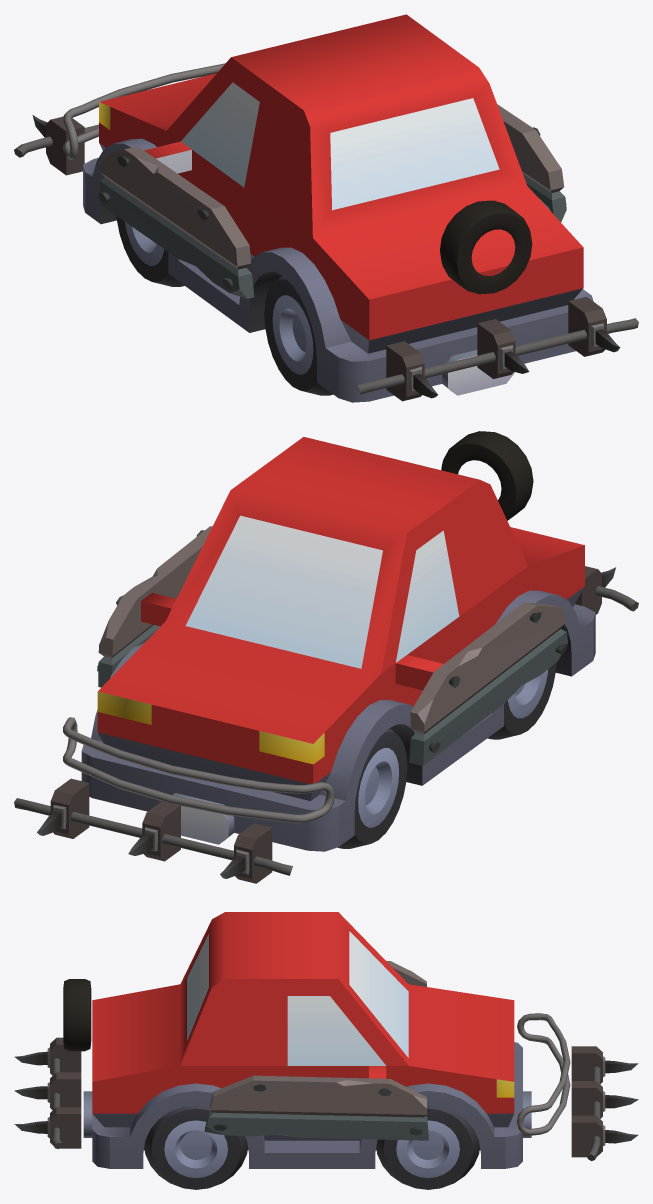
Rendered from car_rook.glb.
The picture shows the model from 3 angles, top to bottom: view 1: azimuth 30°, elevation 25°; view 2: azimuth 150°, elevation 25°; view 3: azimuth 270°, elevation 25°; orthographic projection. The views are drawn at different scales.
Visible parts, largest first — view 1: body_mesh, armor_1_mesh, armor_2_mesh, armor_3_mesh, wheel_RL_mesh, wheel_FL_mesh; view 2: body_mesh, armor_1_mesh, armor_3_mesh, armor_2_mesh, wheel_FL_mesh, wheel_RL_mesh; view 3: body_mesh, armor_1_mesh, armor_3_mesh, armor_2_mesh, wheel_RR_mesh, wheel_FR_mesh.
Part boxes in pixels (x1=…): body_mesh: x1=83, y1=14, x2=593, y2=402; armor_1_mesh: x1=98, y1=104, x2=566, y2=298; armor_2_mesh: x1=63, y1=63, x2=638, y2=401; armor_3_mesh: x1=14, y1=115, x2=532, y2=294; wheel_RL_mesh: x1=264, y1=275, x2=332, y2=395; wheel_FL_mesh: x1=116, y1=216, x2=184, y2=286; body_mesh: x1=81, y1=437, x2=595, y2=851; armor_1_mesh: x1=97, y1=526, x2=567, y2=765; armor_3_mesh: x1=14, y1=431, x2=533, y2=883; armor_2_mesh: x1=63, y1=566, x2=638, y2=823; wheel_FL_mesh: x1=338, y1=728, x2=407, y2=848; wheel_RL_mesh: x1=487, y1=662, x2=556, y2=739; body_mesh: x1=83, y1=912, x2=531, y2=1168; armor_1_mesh: x1=204, y1=960, x2=428, y2=1140; armor_3_mesh: x1=63, y1=979, x2=638, y2=1160; armor_2_mesh: x1=14, y1=1013, x2=570, y2=1149; wheel_RR_mesh: x1=144, y1=1105, x2=247, y2=1189; wheel_FR_mesh: x1=376, y1=1105, x2=479, y2=1189.
Size of the model in its own units: 2.66 by 1.99 by 5.44.
Materials: 3 (2 with a texture image).
